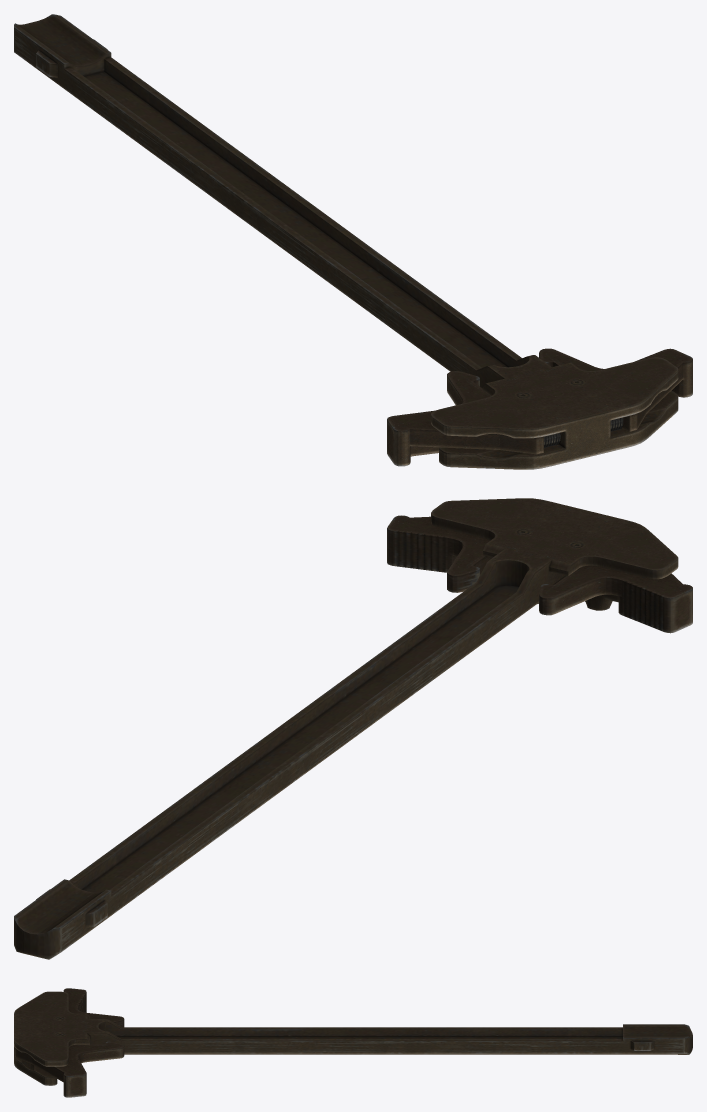
3 renders of one model, top to bottom at view 1: azimuth 30°, elevation 25°; view 2: azimuth 150°, elevation 25°; view 3: azimuth 270°, elevation 25°, orthographic. The views are drawn at different scales.
Parts seen in each view (by area): view 1: TW_6529109524cbe3c74a05e5b7_PZ_Import; view 2: TW_6529109524cbe3c74a05e5b7_PZ_Import; view 3: TW_6529109524cbe3c74a05e5b7_PZ_Import.
Part boxes in pixels (x1,y1,x2,y2): TW_6529109524cbe3c74a05e5b7_PZ_Import: (14,14,692,469); TW_6529109524cbe3c74a05e5b7_PZ_Import: (14,498,692,959); TW_6529109524cbe3c74a05e5b7_PZ_Import: (14,988,692,1097).
Size of the model in its own units: 0.036 by 0.1173 by 0.0063.
Materials: 1 (1 with a texture image).
